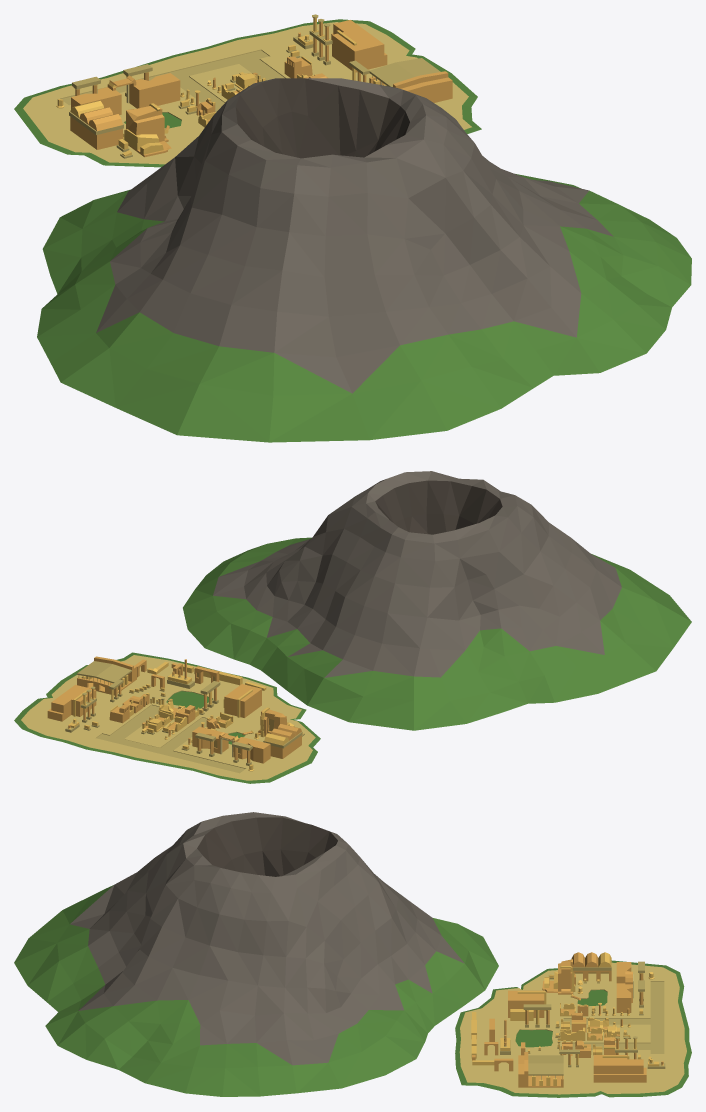
Rendered from Pompeii_Vesuvius.fbx.
3 renders of one model, top to bottom at view 1: azimuth 30°, elevation 25°; view 2: azimuth 150°, elevation 25°; view 3: azimuth 270°, elevation 25°, orthographic. The views are drawn at different scales.
Parts seen in each view (by area): view 1: mt_vesuvius, floorPlane, EntranceMain02, Structure01, Structure04, Structure02, CollapsedStructure015; view 2: mt_vesuvius, floorPlane, Structure01, EntranceMain02, Structure04, Structure03, Structure02, CollapsedStructure015; view 3: mt_vesuvius, floorPlane, Structure01, Structure04, Structure03, Structure02, EntranceMain02, CollapsedStructure015.
Boxes of the visible parts, x1,y1,x2,y2 form: mt_vesuvius: (37, 78, 691, 442); floorPlane: (14, 19, 481, 167); EntranceMain02: (71, 73, 180, 115); Structure01: (369, 58, 452, 102); Structure04: (331, 20, 387, 72); Structure02: (69, 100, 123, 149); CollapsedStructure015: (124, 103, 171, 157); mt_vesuvius: (183, 471, 691, 730); floorPlane: (14, 652, 320, 783); Structure01: (77, 656, 136, 695); EntranceMain02: (192, 726, 270, 763); Structure04: (47, 684, 96, 721); Structure03: (223, 684, 261, 717); Structure02: (263, 724, 302, 758); CollapsedStructure015: (258, 707, 294, 737); mt_vesuvius: (14, 812, 498, 1096); floorPlane: (455, 960, 691, 1097); Structure01: (518, 1052, 563, 1087); Structure04: (593, 1055, 646, 1082); Structure03: (508, 990, 546, 1020); Structure02: (571, 952, 611, 981); EntranceMain02: (616, 962, 632, 1012); CollapsedStructure015: (542, 959, 575, 994).
Bounding box in the file's own units: 516 × 152 × 667.
1 material, 1 textured.
